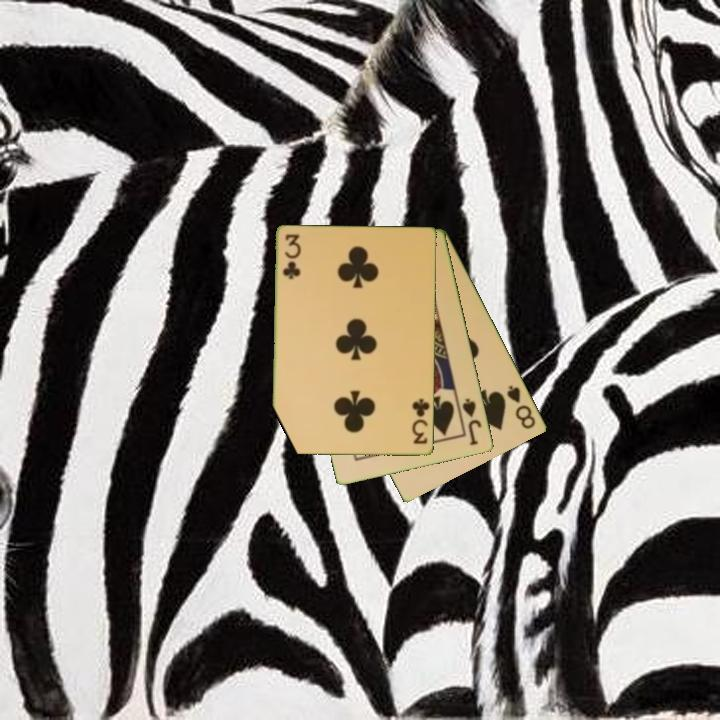3c: (409, 396, 433, 447), (279, 231, 301, 282)
8s: (504, 381, 539, 432)
Js: (459, 395, 485, 448)
